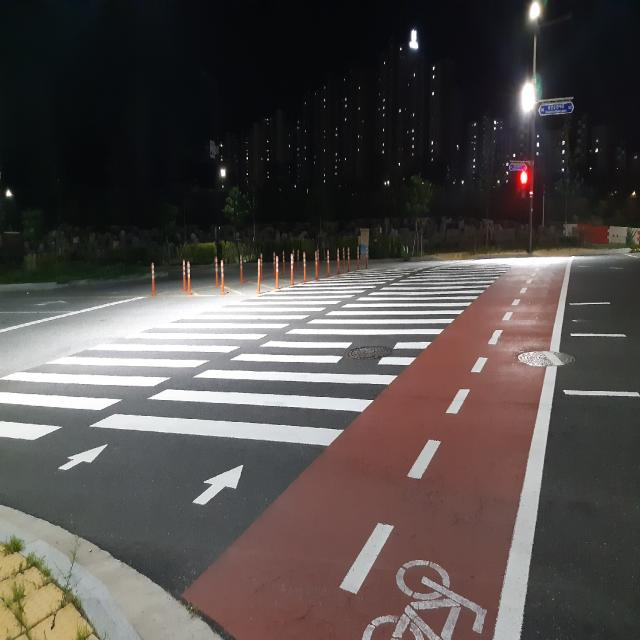빨간불: (518, 168, 527, 200)
횡단보도: (0, 258, 513, 506)
